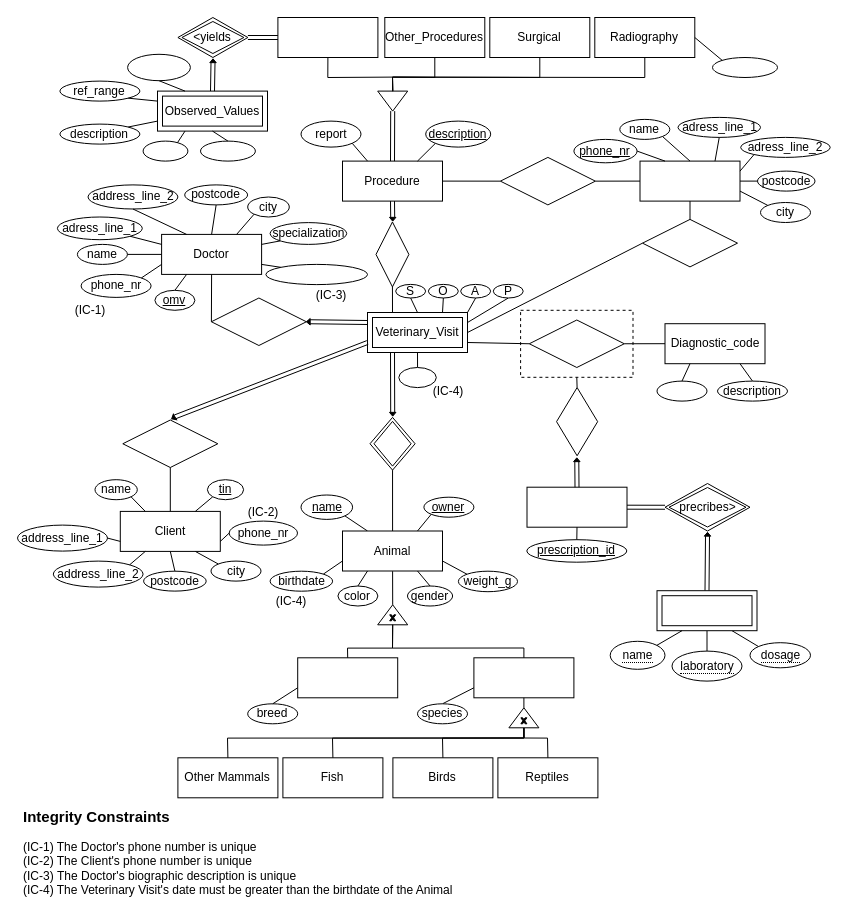
Some shapes in this 848 by 915 pixel diagram are drawn without their labels. The centre of each missing label's shape, as x and y in pixels:
"<assists" goes at (x=690, y=242).
"<performes" goes at (x=547, y=180).
"Assis tant" goes at (x=689, y=180).
"associated>" goes at (x=576, y=343).
"biog_description" goes at (x=316, y=274).
"Cats_or_Dogs" goes at (x=347, y=677).
"code" goes at (x=681, y=390).
"date" goes at (x=417, y=377).
"gives>" goes at (x=258, y=321).
"has>" goes at (x=392, y=443).
"img_path" goes at (x=745, y=67).
"indicator" goes at (x=158, y=67).
"involves" goes at (x=392, y=254).
"Medication" goes at (x=706, y=610).
"Other_Animals" goes at (x=523, y=677).
"Prescription" goes at (x=576, y=506).
"requests>" goes at (x=170, y=443).
"Test" goes at (x=327, y=37).
"units" goes at (x=227, y=150).
"values" goes at (x=165, y=150).
"warrants>" goes at (x=577, y=421).
